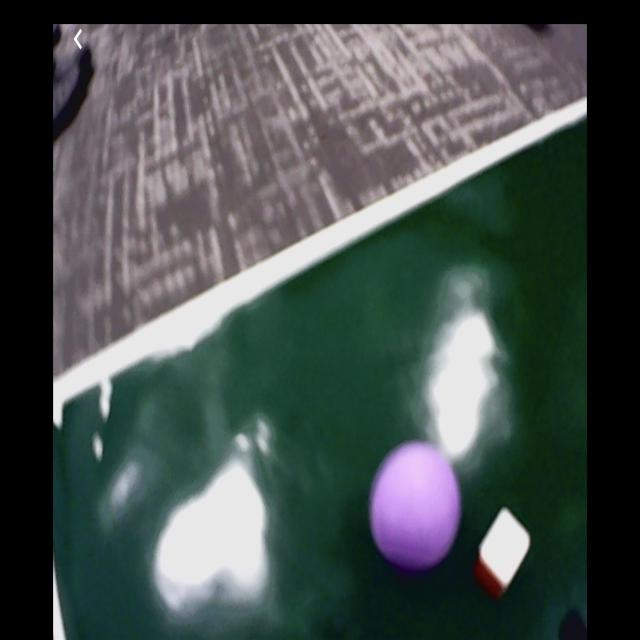ball: (374, 443, 460, 570)
